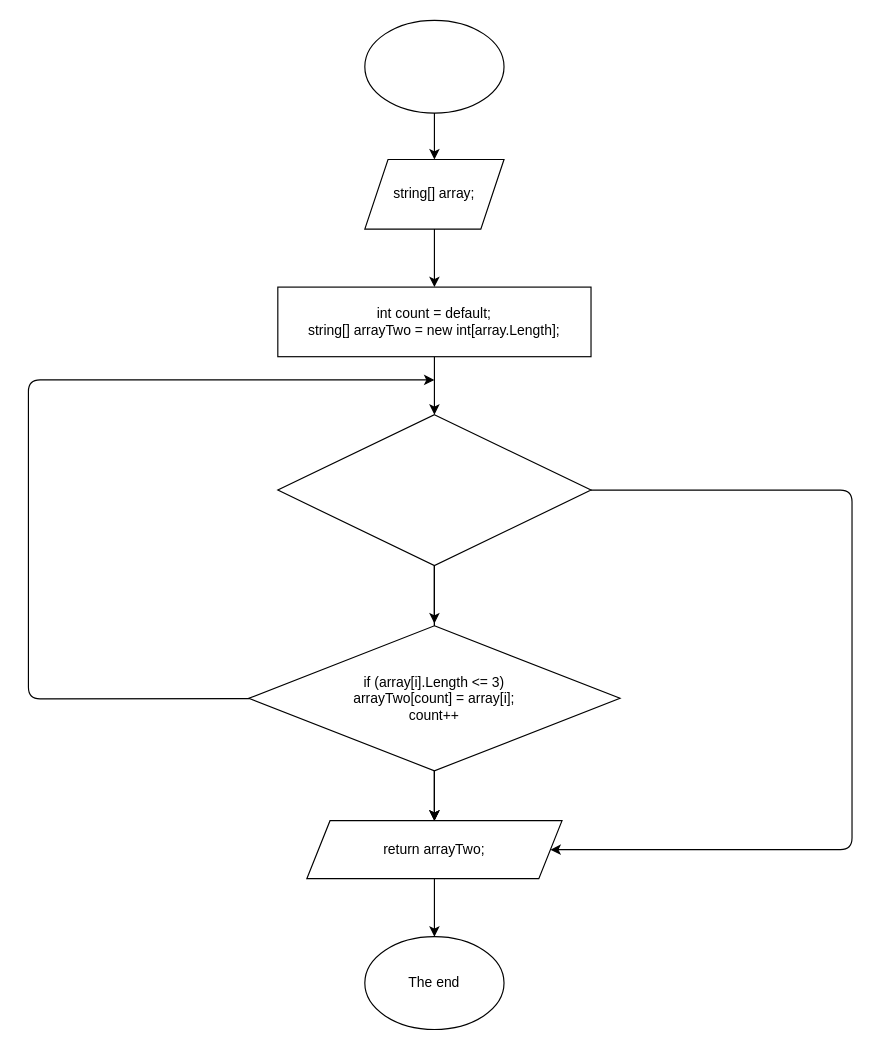
Image size: 882x1050. Some labels were removed from this diagram. The centre of each missing label's shape, as x and y in pixels:
int i = 0; i < array.Length; i++;: (x=434, y=490)
Start: (x=434, y=66)
